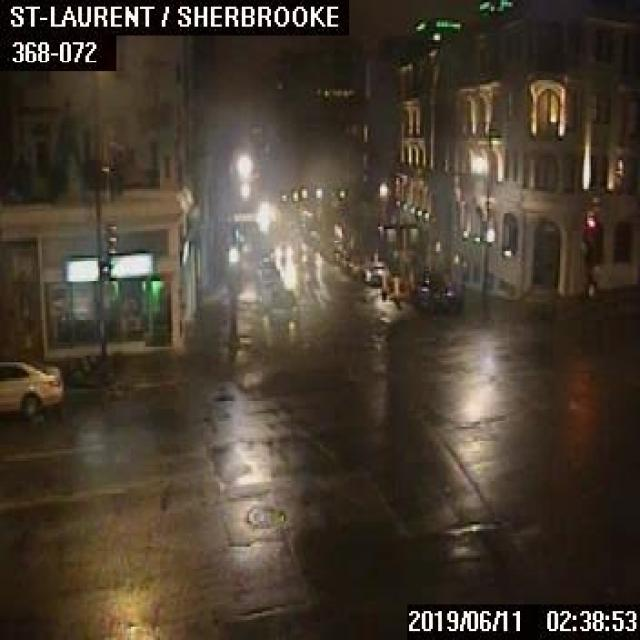vehicle: (0, 356, 60, 414), (412, 274, 461, 310), (266, 288, 297, 321), (360, 258, 387, 284), (271, 242, 291, 258)
